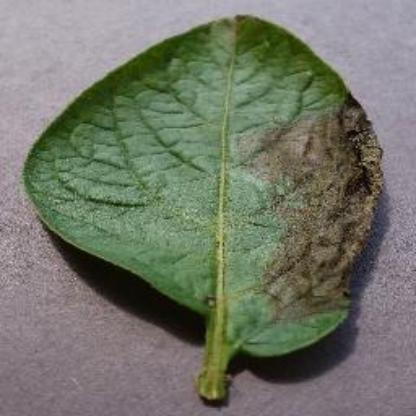Late-Blight: (18, 9, 414, 407)
